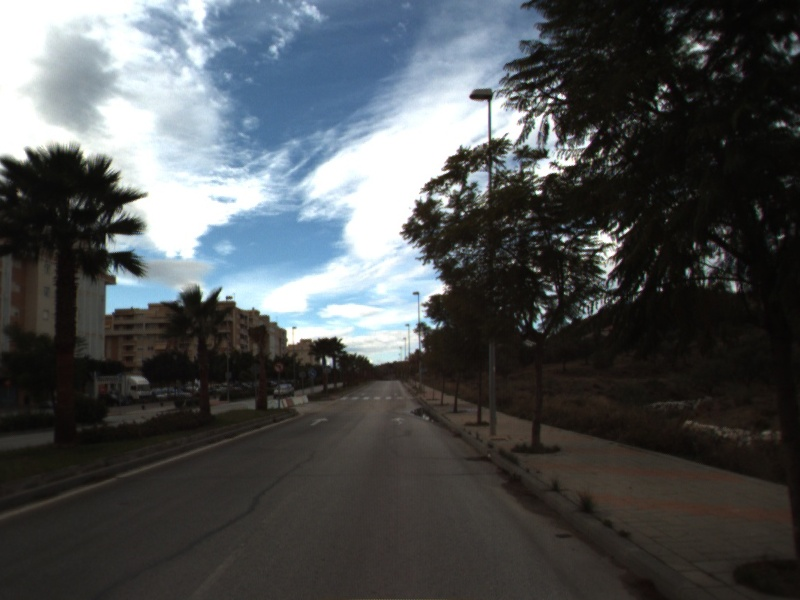STRAIGHT: (308, 415, 331, 428)
